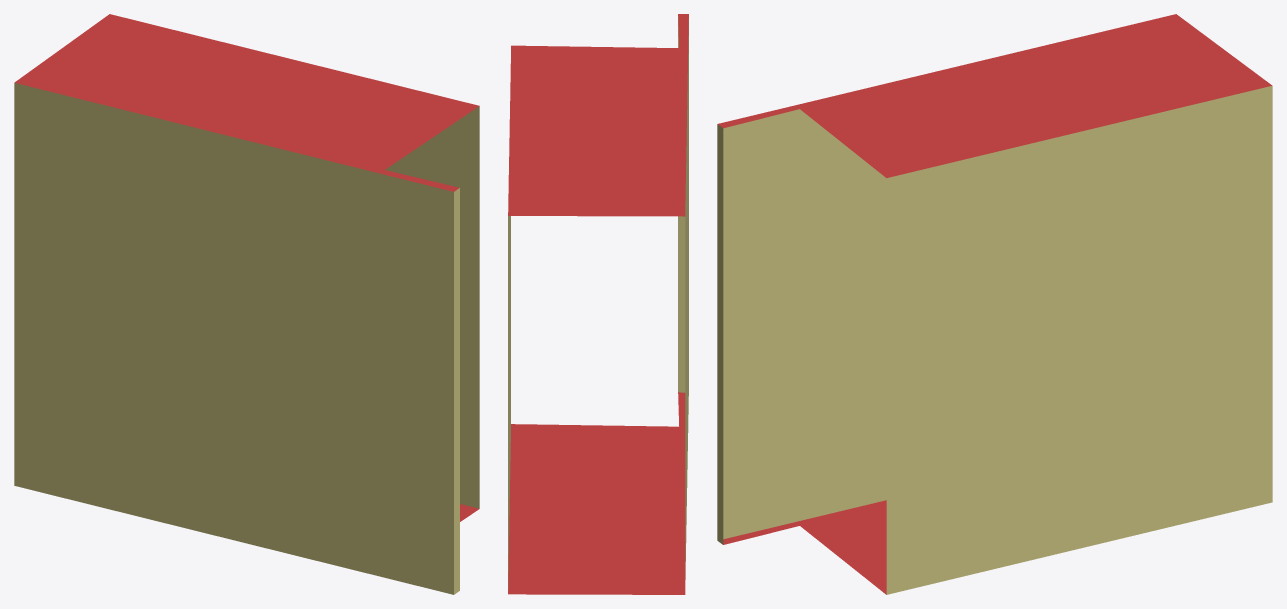
3 views of the same model, side by side, from view 1: azimuth 30°, elevation 25°; view 2: azimuth 150°, elevation 25°; view 3: azimuth 270°, elevation 25° (orthographic). The views are drawn at different scales.
Bounding box in the file's own units: 6.69 × 9.56 × 7.92.
